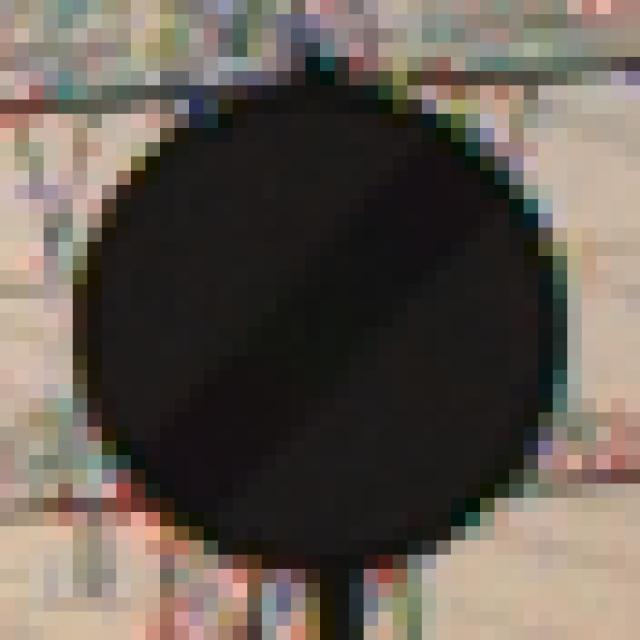restriction ends: (73, 65, 559, 563)
